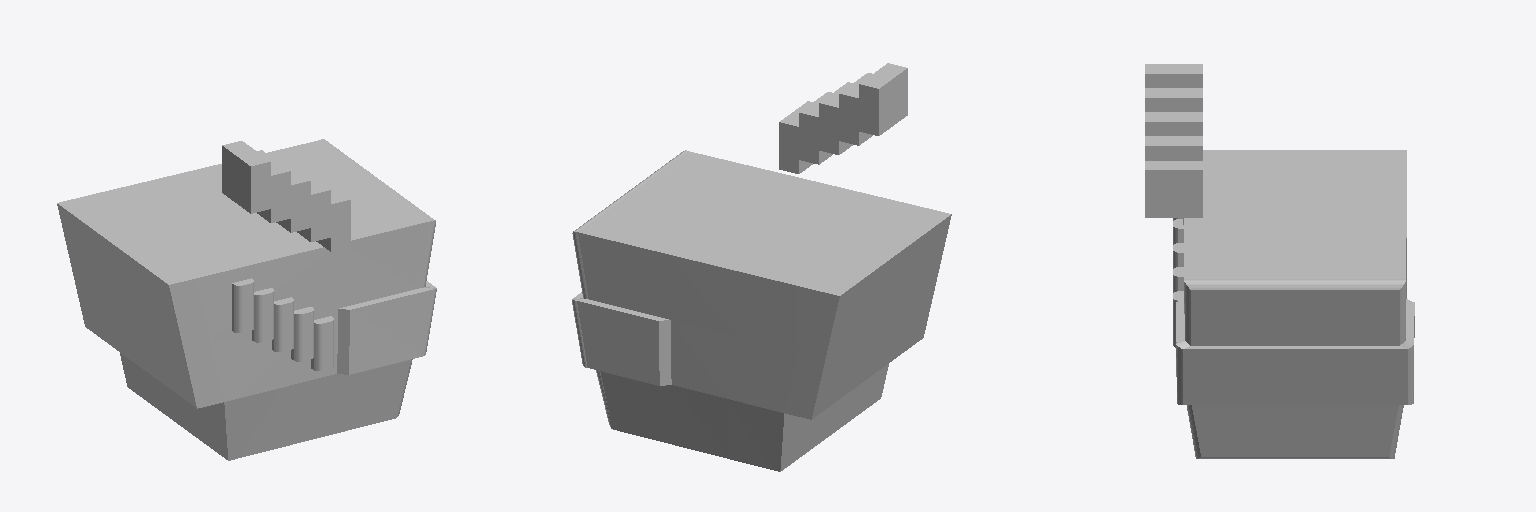
The model's file is wieza.obj.
3 views of the same model, side by side, from view 1: azimuth 30°, elevation 25°; view 2: azimuth 150°, elevation 25°; view 3: azimuth 270°, elevation 25° (orthographic).
Visible parts, largest first — view 1: Cube, Cube.011_Cube.014; view 2: Cube, Cube.011_Cube.014; view 3: Cube, Cube.011_Cube.014.
Part boxes in pixels (x1,y1,x2,y2): Cube: (57, 139, 436, 460); Cube.011_Cube.014: (222, 141, 350, 251); Cube: (572, 150, 951, 471); Cube.011_Cube.014: (779, 63, 907, 173); Cube: (1173, 150, 1414, 458); Cube.011_Cube.014: (1145, 64, 1202, 217).
Bounding box in the file's own units: 10.86 × 11.98 × 9.35.